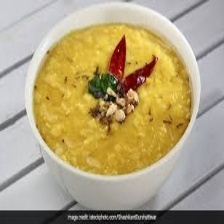dal: (32, 20, 193, 174)
